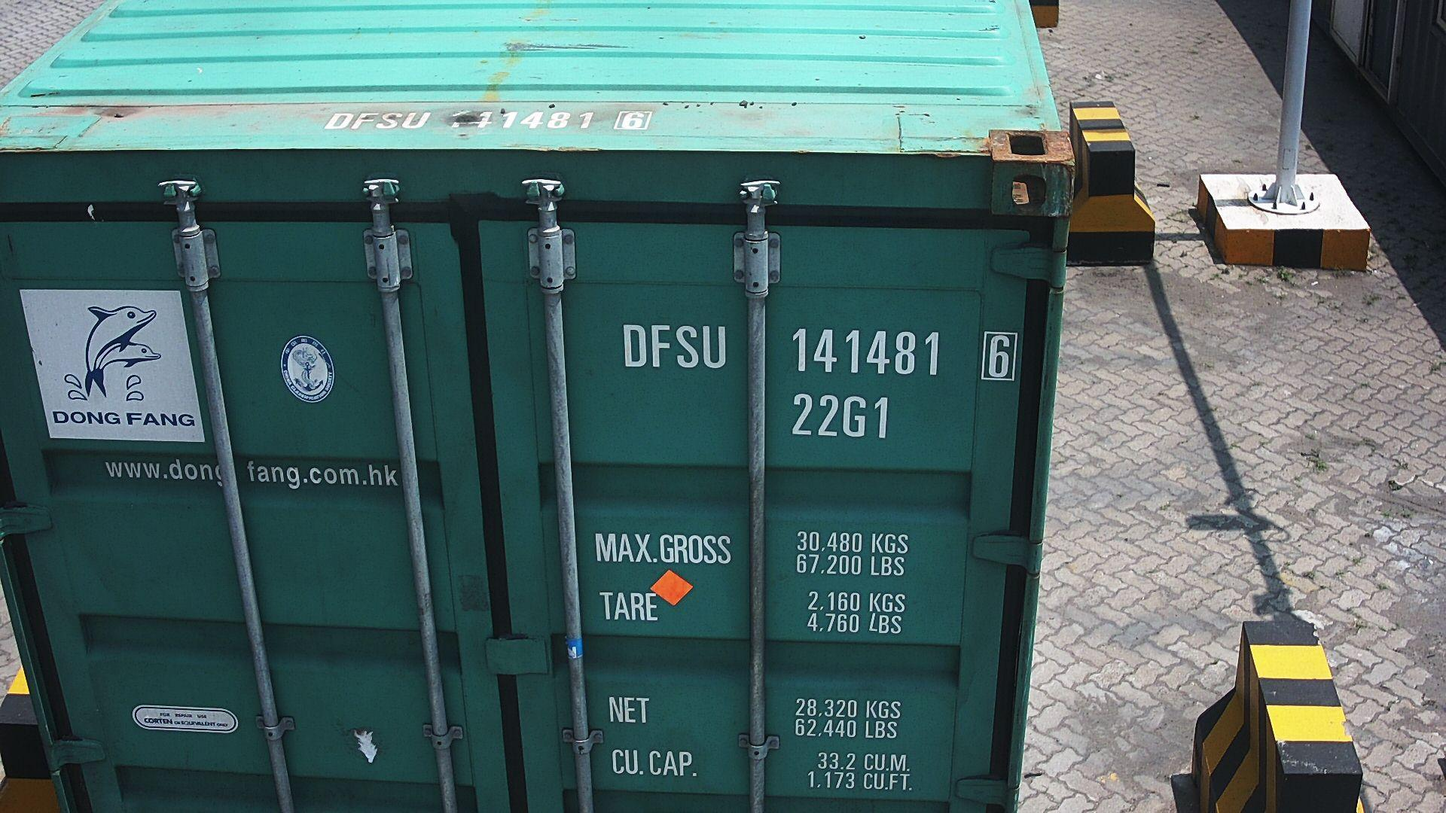container-numbers: (618, 320, 1020, 385), (316, 102, 660, 134), (787, 390, 895, 443)
